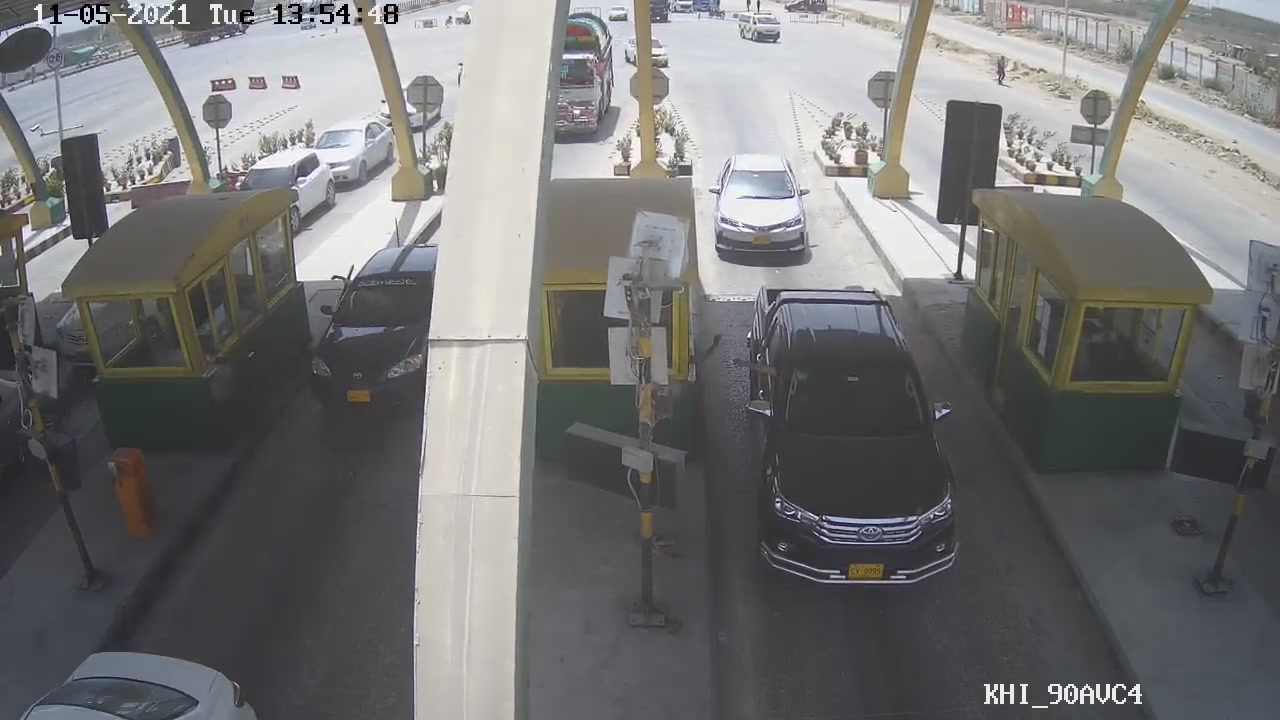F1: (745, 274, 959, 599), (703, 148, 824, 267)
